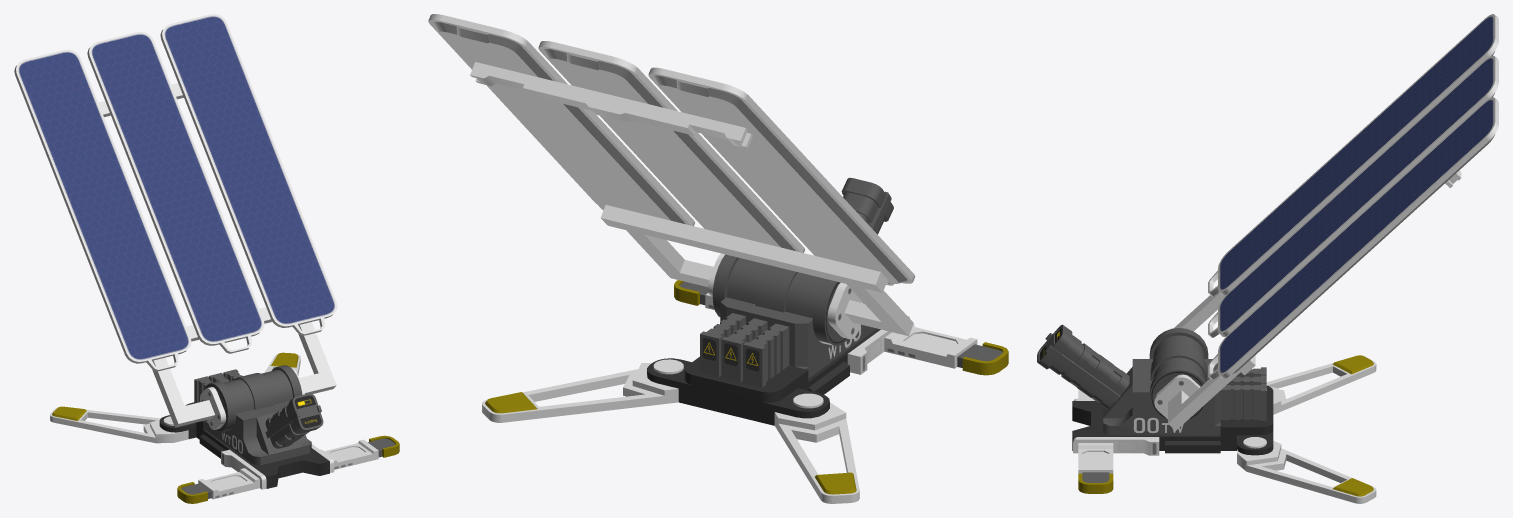
Rendered from simple_solar_station_2.glb.
The picture shows the model from 3 angles, left to right: view 1: azimuth 30°, elevation 25°; view 2: azimuth 150°, elevation 25°; view 3: azimuth 270°, elevation 25°; orthographic projection. The views are drawn at different scales.
Parts seen in each view (by area): view 1: SolarTwoBody, SolarTwoRotatePannel; view 2: SolarTwoBody, SolarTwoRotatePannel; view 3: SolarTwoBody, SolarTwoRotatePannel.
Boxes of the visible parts, x1,y1,x2,y2 form: SolarTwoBody: (14, 14, 337, 429); SolarTwoRotatePannel: (50, 352, 399, 503); SolarTwoBody: (428, 14, 915, 339); SolarTwoRotatePannel: (482, 177, 1008, 503); SolarTwoBody: (1154, 14, 1498, 430); SolarTwoRotatePannel: (1037, 324, 1376, 503).
Size of the model in its own units: 8.3 by 9.93 by 11.42.
Materials: 1 (1 with a texture image).
